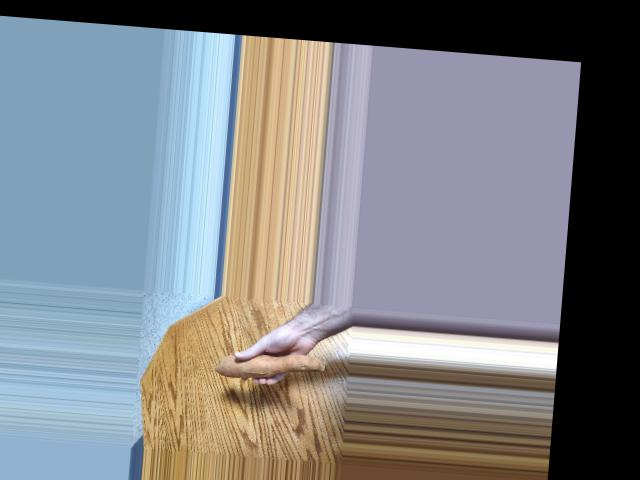sweet_potato: (212, 345, 331, 388)
